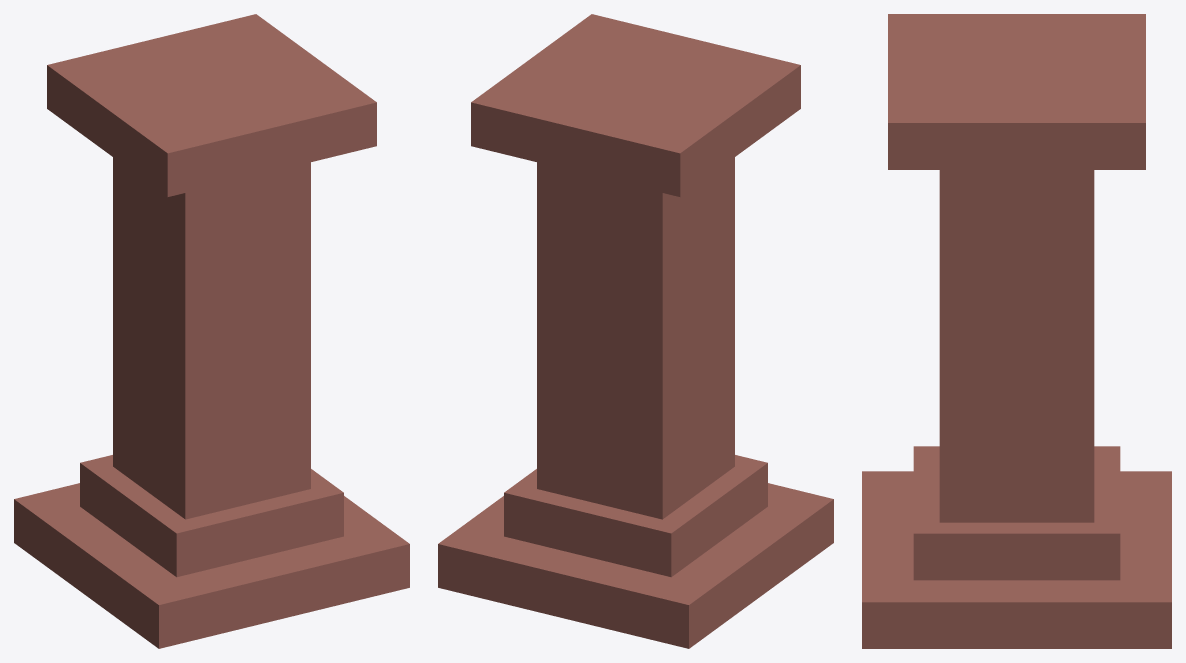
The model's file is pillar.glb.
3 renders of one model, left to right at view 1: azimuth 30°, elevation 25°; view 2: azimuth 150°, elevation 25°; view 3: azimuth 270°, elevation 25°, orthographic. The views are drawn at different scales.
Visible parts, largest first — view 1: mesh; view 2: mesh; view 3: mesh.
Boxes of the visible parts, box(x1,y1,x2,y2) form: mesh: box(14, 14, 409, 648); mesh: box(438, 14, 833, 648); mesh: box(862, 14, 1171, 648).
Bounding box in the file's own units: 6 × 11 × 6.
